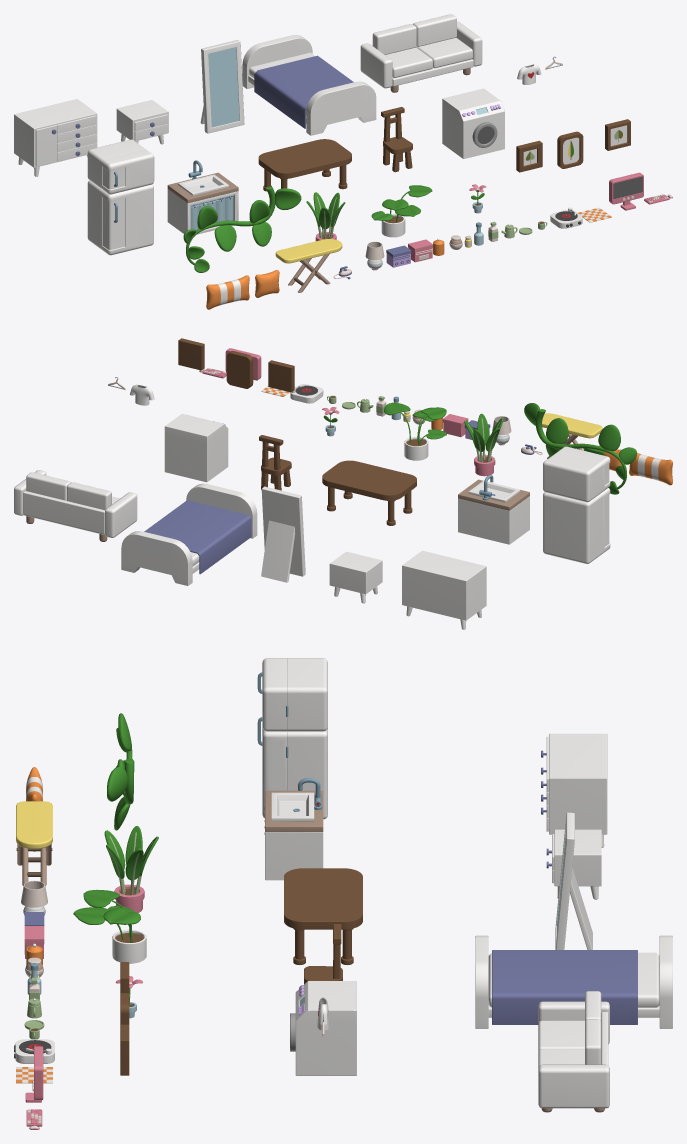
Rendered from Interiors.glb.
The picture shows the model from 3 angles, top to bottom: view 1: azimuth 30°, elevation 25°; view 2: azimuth 150°, elevation 25°; view 3: azimuth 270°, elevation 25°; orthographic projection. The views are drawn at different scales.
Parts seen in each view (by area): view 1: Bed, Fridge, Couch, Cabinet_2, Washing_Machine, Mirror, Washstand, Liana, Table, Cabinet_1, Ironing_Board, Plant_2 (+11 smaller); view 2: Bed, Fridge, Couch, Cabinet_2, Washing_Machine, Washstand, Mirror, Table, Liana, Cabinet_1, Plant_2, Plant_1 (+8 smaller); view 3: Bed, Fridge, Couch, Cabinet_2, Washing_Machine, Table, Washstand, Plant_2, Ironing_Board, Cabinet_1, Plant_1, Mirror (+4 smaller).
Part boxes in pixels (x1,y1,x2,y2): Bed: [242, 35, 376, 135]; Fridge: [87, 139, 154, 255]; Couch: [360, 14, 482, 92]; Cabinet_2: [14, 99, 97, 176]; Washing_Machine: [442, 88, 504, 158]; Mirror: [200, 39, 244, 133]; Washstand: [167, 172, 238, 234]; Liana: [183, 186, 301, 272]; Table: [258, 139, 351, 191]; Cabinet_1: [116, 100, 168, 144]; Ironing_Board: [275, 239, 342, 292]; Plant_2: [371, 185, 432, 237]; Bed: [121, 483, 257, 585]; Fridge: [543, 446, 610, 563]; Couch: [14, 470, 137, 541]; Cabinet_2: [402, 550, 486, 629]; Washing_Machine: [164, 413, 228, 482]; Washstand: [458, 479, 529, 544]; Mirror: [261, 486, 305, 582]; Table: [322, 460, 416, 525]; Liana: [524, 403, 637, 494]; Cabinet_1: [329, 551, 382, 603]; Plant_2: [384, 402, 446, 460]; Plant_1: [464, 413, 503, 476]; Bed: [475, 935, 672, 1028]; Fridge: [257, 658, 327, 819]; Couch: [538, 991, 609, 1112]; Cabinet_2: [541, 733, 607, 847]; Washing_Machine: [290, 981, 356, 1075]; Table: [284, 868, 362, 965]; Washstand: [264, 790, 323, 880]; Plant_2: [73, 889, 146, 963]; Ironing_Board: [16, 801, 52, 885]; Cabinet_1: [546, 829, 601, 899]; Plant_1: [104, 826, 158, 912]; Mirror: [555, 812, 592, 949].
Bounding box in the file's own units: 11.73 × 2.13 × 9.57.
1 material, 1 textured.
